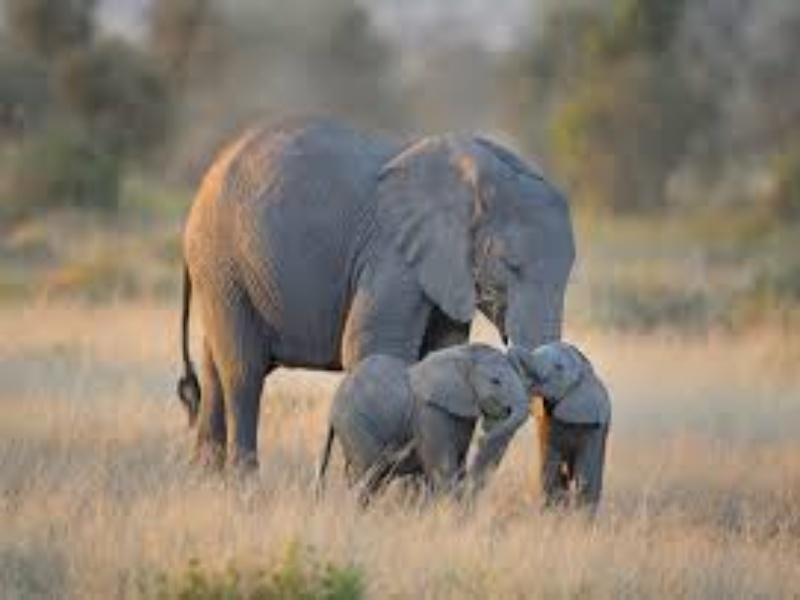elephant: (170, 93, 621, 524), (321, 334, 523, 492), (515, 329, 619, 513)
